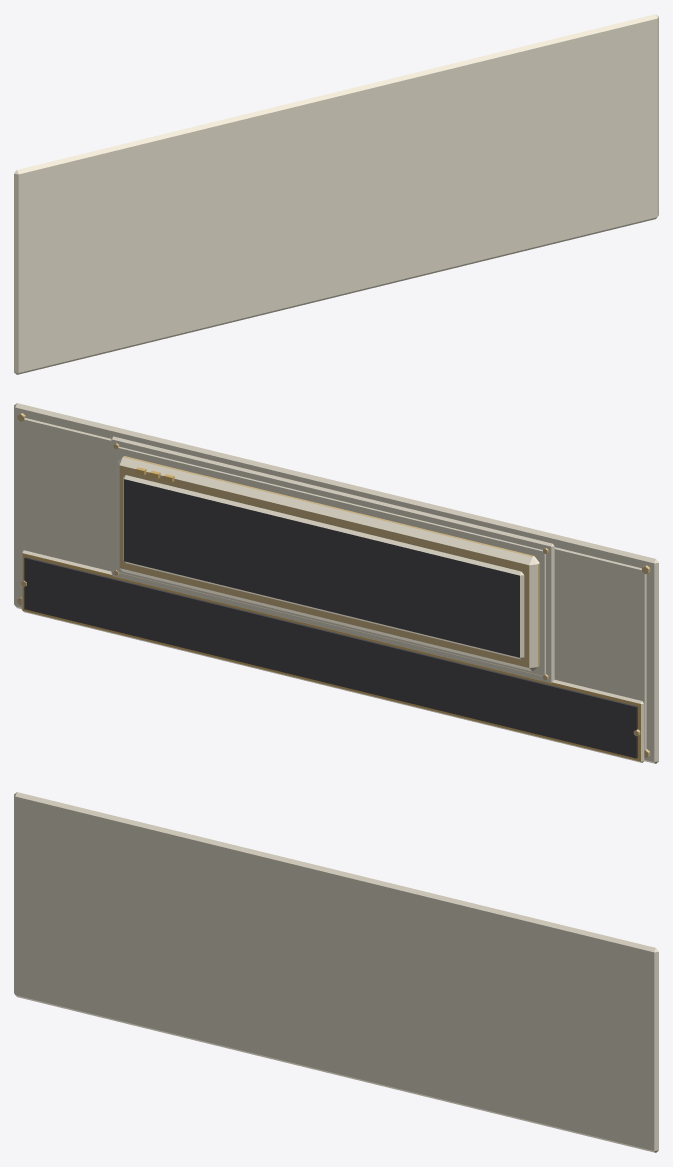
The model's file is Disp_Script_3x1.fbx.
The picture shows the model from 3 angles, top to bottom: view 1: azimuth 30°, elevation 25°; view 2: azimuth 150°, elevation 25°; view 3: azimuth 330°, elevation 25°; orthographic projection.
Parts seen in each view (by area): view 1: Disp_Script_3x1; view 2: Disp_Script_3x1; view 3: Disp_Script_3x1.
Part boxes in pixels (x1=…): Disp_Script_3x1: x1=14, y1=14, x2=658, y2=374; Disp_Script_3x1: x1=14, y1=403, x2=658, y2=763; Disp_Script_3x1: x1=14, y1=792, x2=658, y2=1152.
Size of the model in its own units: 3.16 by 0.96 by 0.1381.
